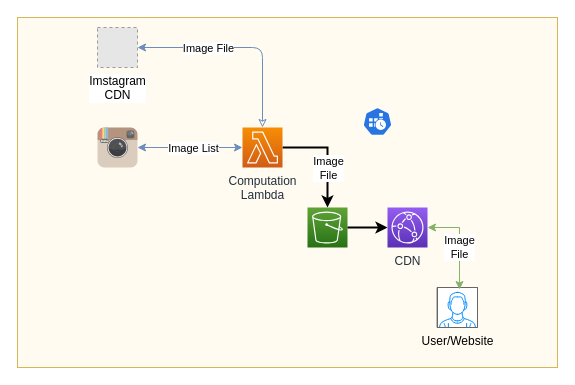
This 575x385 diagram has some shape labels left out. Grey dashed boxes stand in for pictures. Each missing label, with the box of its shape:
Data Store: (306, 206, 348, 248)
Iistagram Server: (96, 126, 138, 168)
